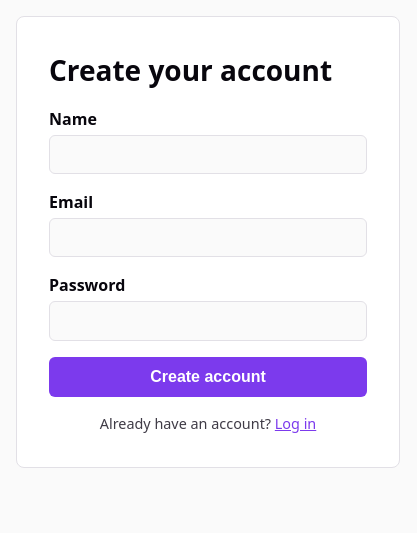
Test: RegisterPage › maps field-level validation errors from the backend onto the right inputs
Step 1. Type "New User" into the field labelled "Name" → (208, 155), box [49,135,367,174]
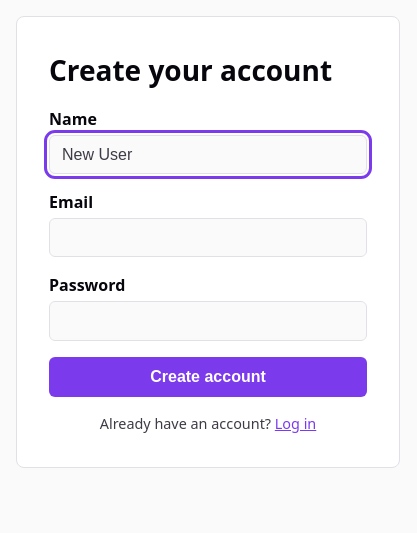
Step 2. Type "new@example.com" into the field labelled "Email" → (208, 238), box [49,218,367,257]
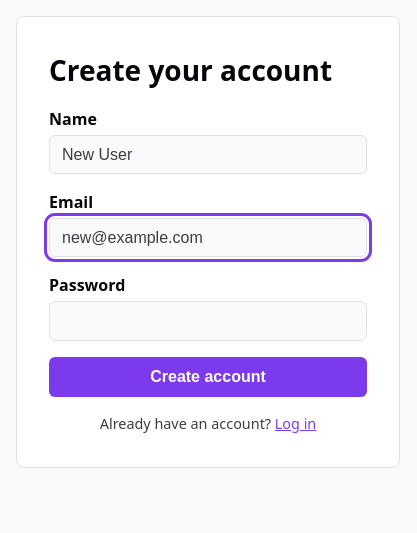
Step 3. Type "short" into the password field labelled "Password" → (208, 321), box [49,301,367,341]
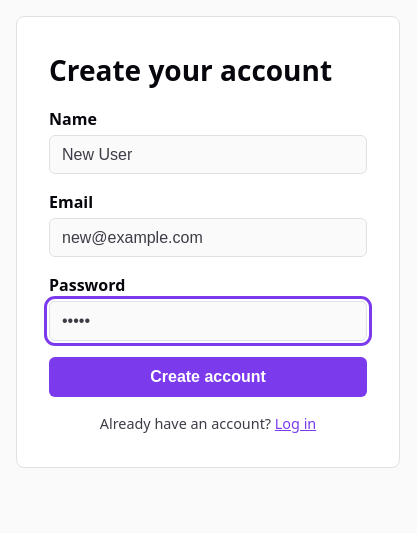
Step 4. Click the button "Create account" → click(208, 377), box [49,357,367,397]
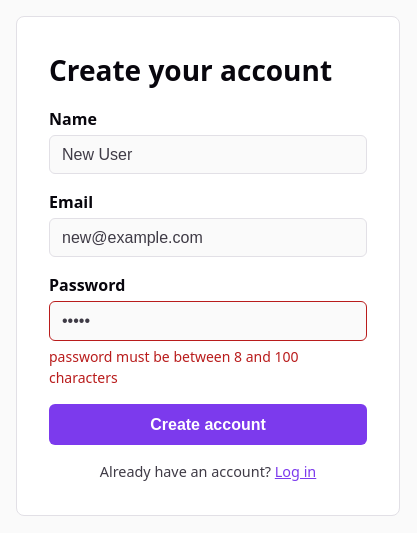
Now the text "password must be between 8 and 100 characters" is shown, box [49,347,298,387]
